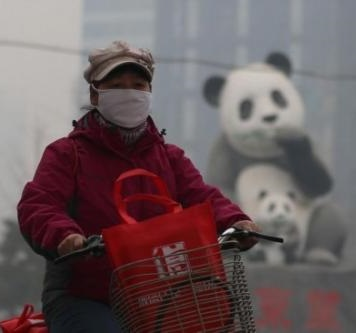person: (15, 36, 266, 266)
